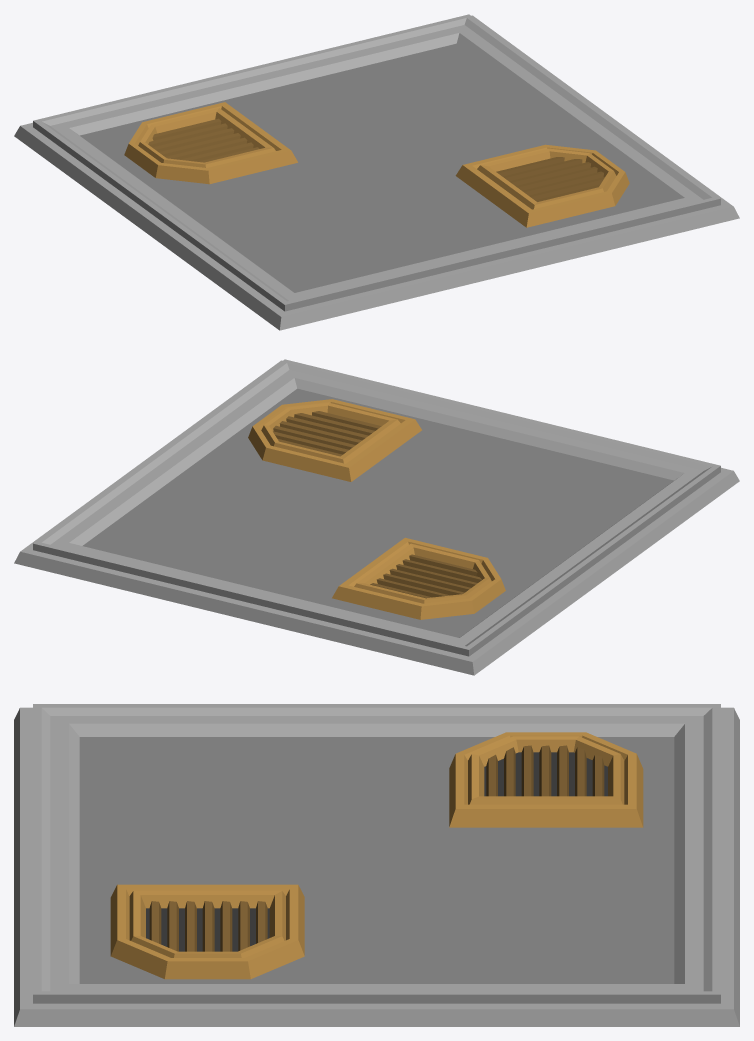
File: RoofTile_SmallVents.gltf
3 renders of one model, top to bottom at view 1: azimuth 30°, elevation 25°; view 2: azimuth 150°, elevation 25°; view 3: azimuth 270°, elevation 25°, orthographic. The views are drawn at different scales.
Parts seen in each view (by area): view 1: RoofTile_SmallVents; view 2: RoofTile_SmallVents; view 3: RoofTile_SmallVents.
Part boxes in pixels (bbox=[...]): RoofTile_SmallVents: bbox=[14, 14, 739, 330]; RoofTile_SmallVents: bbox=[14, 359, 739, 675]; RoofTile_SmallVents: bbox=[14, 704, 739, 1026].
Size of the model in its own units: 2 by 0.0907 by 2.
